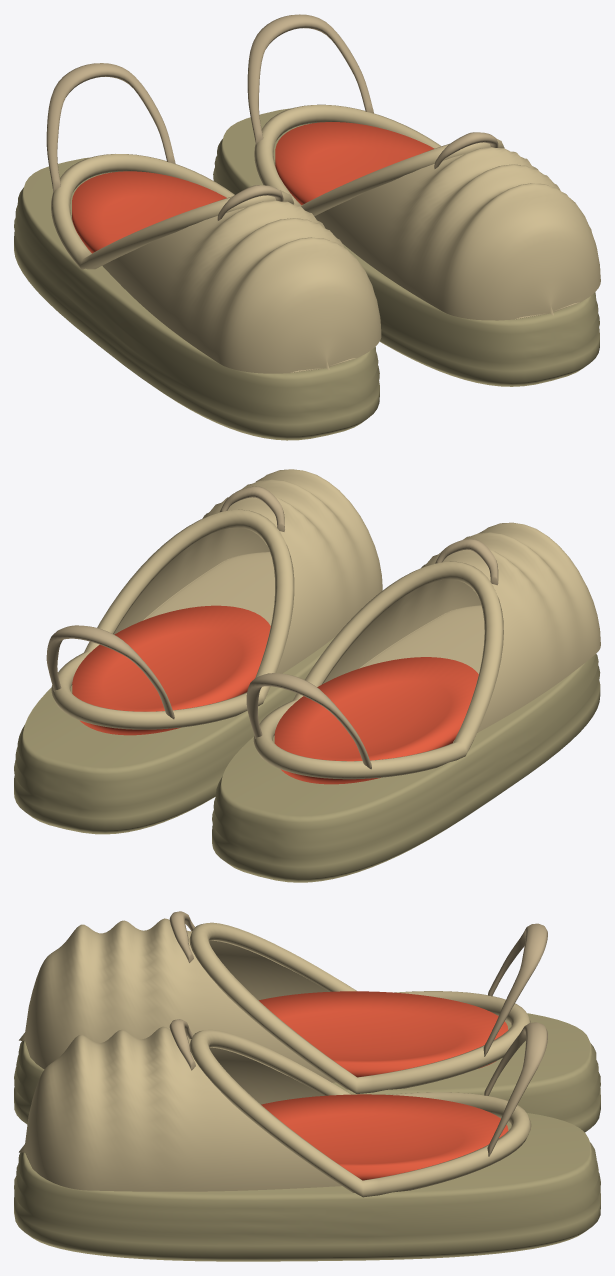
The model's file is room01-clogs-beige-v1.glb.
The picture shows the model from 3 angles, top to bottom: view 1: azimuth 30°, elevation 25°; view 2: azimuth 150°, elevation 25°; view 3: azimuth 270°, elevation 25°; orthographic projection. The views are drawn at different scales.
Parts seen in each view (by area): view 1: clogs-upper, clogs-sole, clogs-lining, clogs-loop; view 2: clogs-upper, clogs-sole, clogs-lining, clogs-loop; view 3: clogs-upper, clogs-sole, clogs-lining, clogs-loop.
Boxes of the visible parts, x1,y1,x2,y2 form: clogs-upper: (51,104,600,373); clogs-sole: (14,108,599,440); clogs-lining: (72,122,434,253); clogs-loop: (46,14,498,220); clogs-upper: (51,469,600,779); clogs-sole: (14,637,600,882); clogs-lining: (72,605,478,784); clogs-loop: (46,486,498,769); clogs-upper: (19,918,531,1197); clogs-sole: (14,1013,600,1261); clogs-lining: (259,991,508,1180); clogs-loop: (169,911,547,1156).
Bounding box in the file's own units: 0.2161 × 0.0985 × 0.2659.
